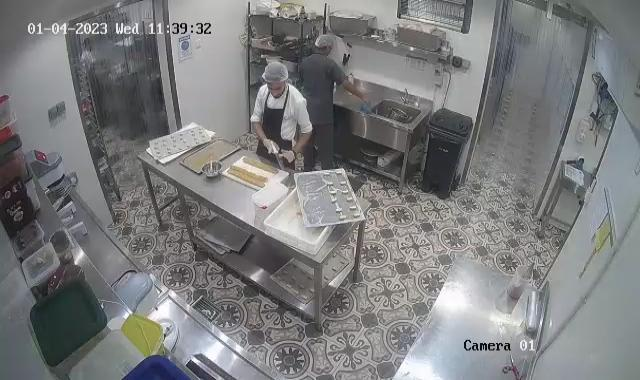hairnet: (259, 61, 289, 91), (313, 33, 336, 51)
